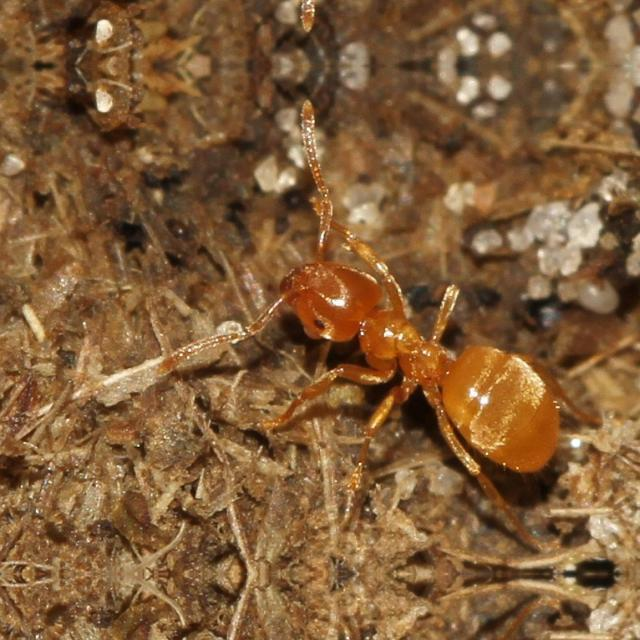Lasius: (201, 175, 559, 502)
